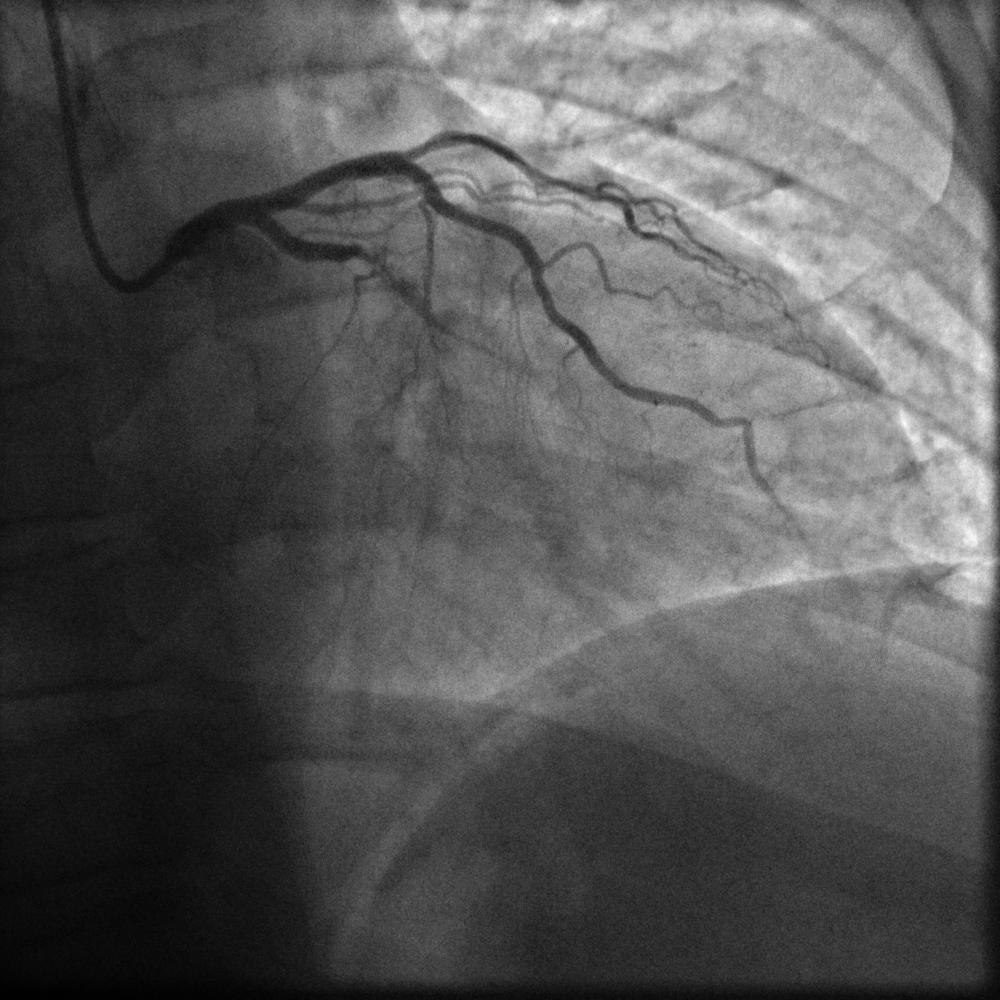Stenosis: (347, 242, 399, 287)
